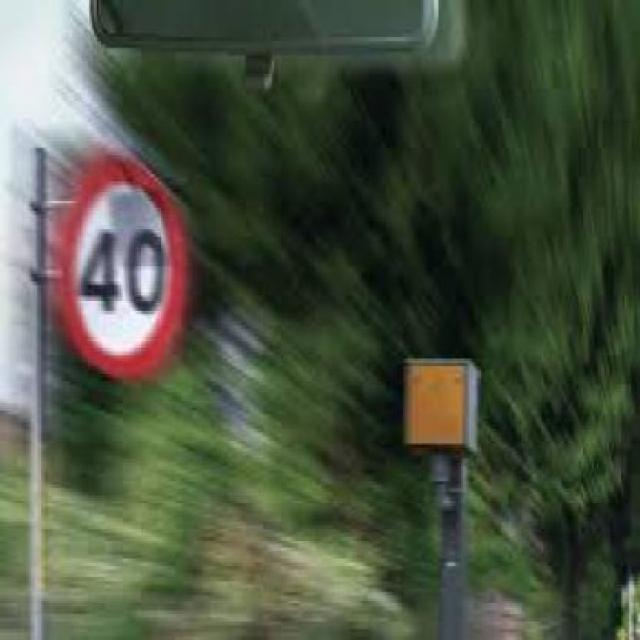forb_speed_over_40: (62, 165, 181, 369)
